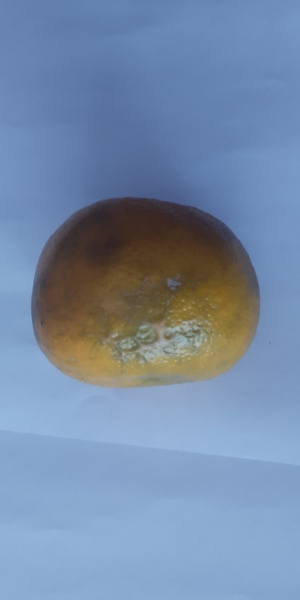BAD: (29, 196, 269, 393)
